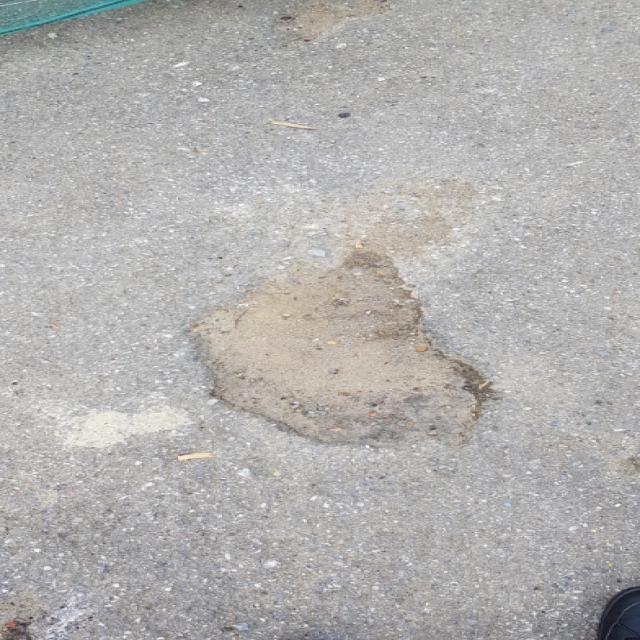Pothole: (178, 244, 506, 451)
